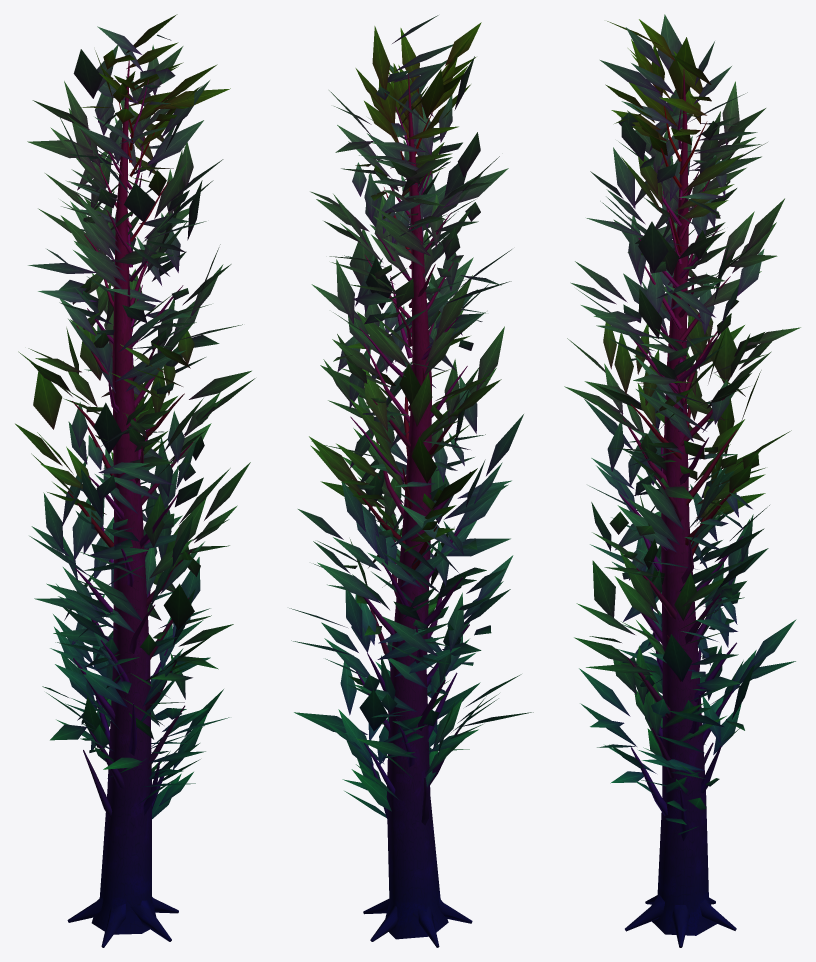
The model's file is cypress_lod2.glb.
3 renders of one model, left to right at view 1: azimuth 30°, elevation 25°; view 2: azimuth 150°, elevation 25°; view 3: azimuth 270°, elevation 25°, orthographic. The views are drawn at different scales.
Parts seen in each view (by area): view 1: cypress_lod2; view 2: cypress_lod2; view 3: cypress_lod2.
Part boxes in pixels (x1,y1,x2,y2): cypress_lod2: (15, 14, 255, 947); cypress_lod2: (289, 15, 533, 947); cypress_lod2: (564, 14, 800, 947).
Bounding box in the file's own units: 2.22 × 9.03 × 2.17.
2 materials, 2 textured.
